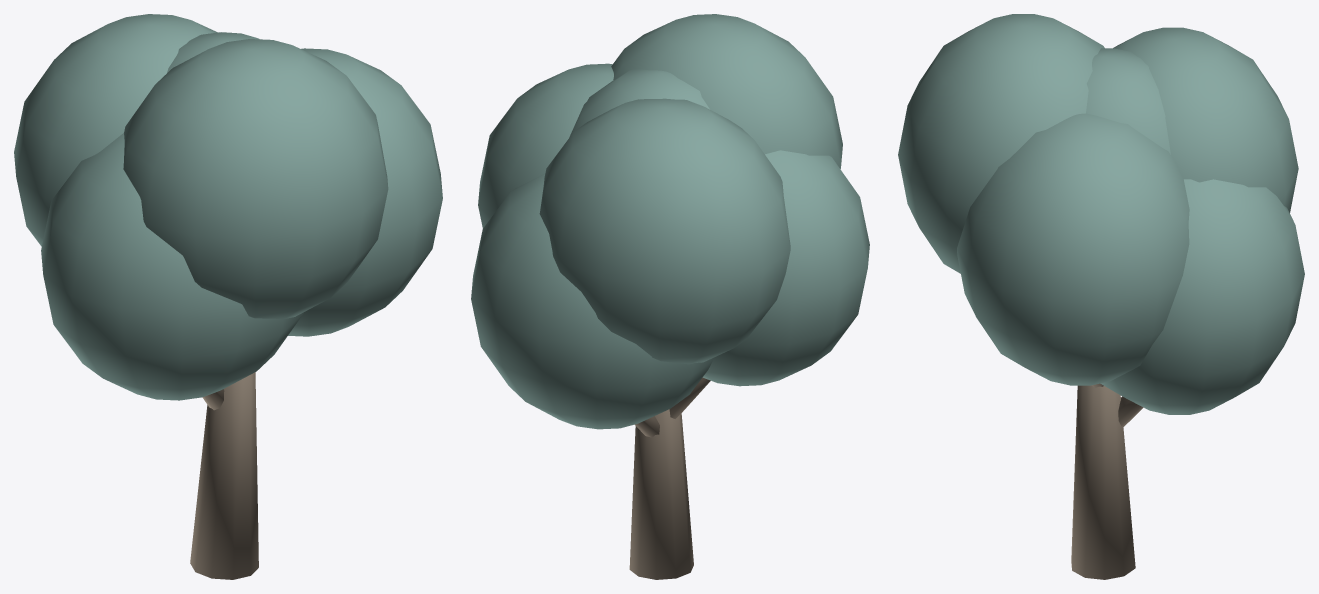
File: Tree2_S100.fbx
3 renders of one model, left to right at view 1: azimuth 30°, elevation 25°; view 2: azimuth 150°, elevation 25°; view 3: azimuth 270°, elevation 25°, orthographic. The views are drawn at different scales.
Parts seen in each view (by area): view 1: Tree2_S100; view 2: Tree2_S100; view 3: Tree2_S100.
Part boxes in pixels (bbox=[...]): Tree2_S100: bbox=[14, 14, 442, 579]; Tree2_S100: bbox=[471, 14, 869, 579]; Tree2_S100: bbox=[898, 14, 1304, 579].
Bounding box in the file's own units: 503 × 487 × 704.
